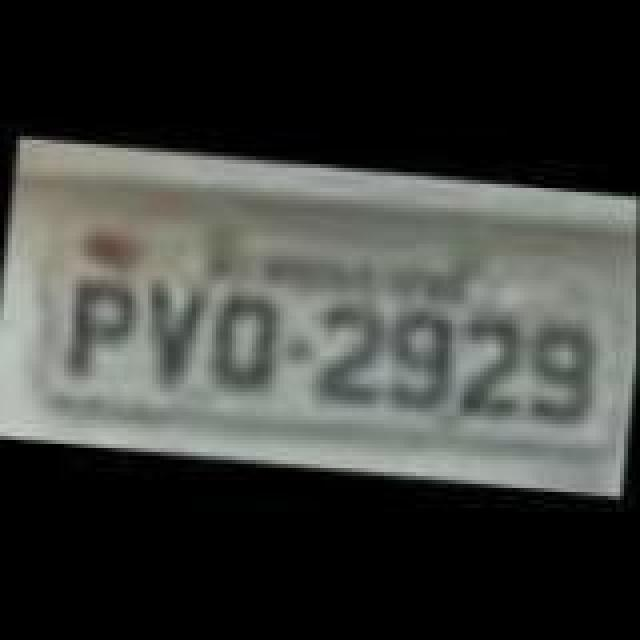2: (450, 312, 530, 424), (310, 300, 390, 408)
9: (518, 316, 598, 428), (384, 306, 460, 414)
O: (208, 286, 284, 394)
P: (66, 278, 138, 386)
V: (138, 276, 210, 388)
